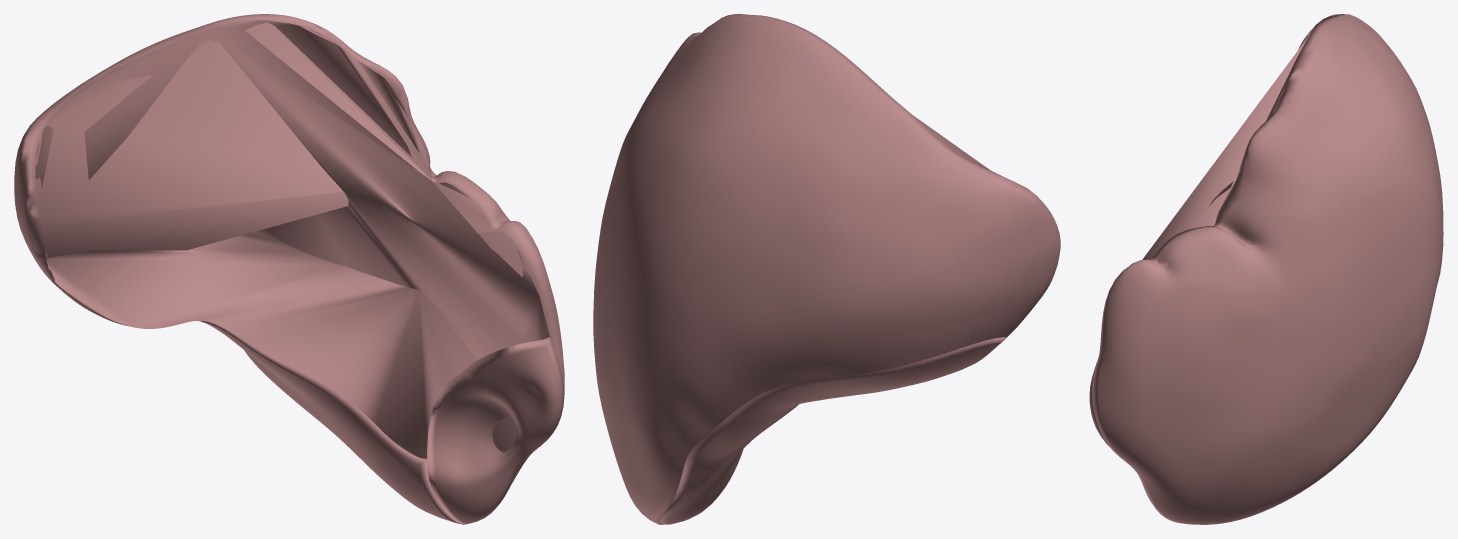
3 renders of one model, left to right at view 1: azimuth 30°, elevation 25°; view 2: azimuth 150°, elevation 25°; view 3: azimuth 270°, elevation 25°, orthographic. The views are drawn at different scales.
Visible parts, largest first — view 1: VH_M_diaphragmatic_surface_of_spleen, VH_M_gastric_surface_of_spleen, VH_M_hilum_of_spleen, VH_M_colic_surface_of_spleen, VH_M_renal_surface_of_spleen; view 2: VH_M_diaphragmatic_surface_of_spleen, VH_M_renal_surface_of_spleen; view 3: VH_M_diaphragmatic_surface_of_spleen, VH_M_gastric_surface_of_spleen.
Boxes of the visible parts, <box> form: VH_M_diaphragmatic_surface_of_spleen: <box>14,14,564,504</box>; VH_M_gastric_surface_of_spleen: <box>35,20,549,359</box>; VH_M_hilum_of_spleen: <box>45,229,477,458</box>; VH_M_colic_surface_of_spleen: <box>427,337,564,524</box>; VH_M_renal_surface_of_spleen: <box>51,281,459,523</box>; VH_M_diaphragmatic_surface_of_spleen: <box>593,14,1060,523</box>; VH_M_renal_surface_of_spleen: <box>657,337,1006,524</box>; VH_M_diaphragmatic_surface_of_spleen: <box>1093,14,1443,524</box>; VH_M_gastric_surface_of_spleen: <box>1142,28,1313,259</box>.
Bounding box in the file's own units: 0.1104 × 0.1186 × 0.0886.
